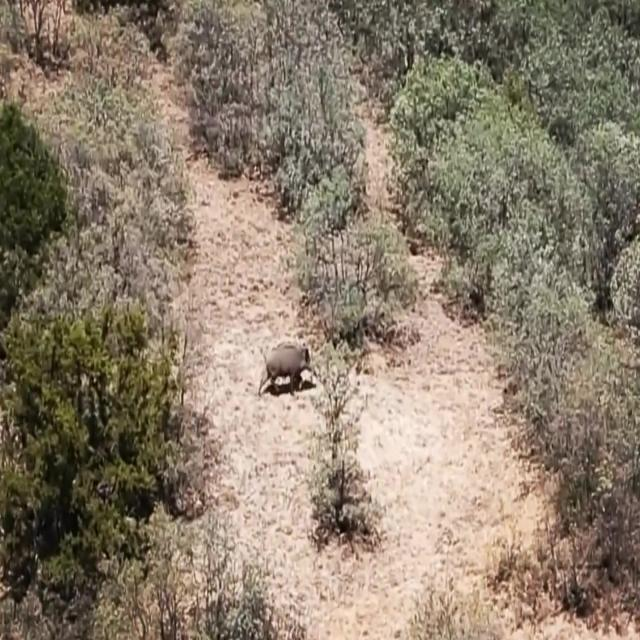pig: (257, 324, 320, 400)
